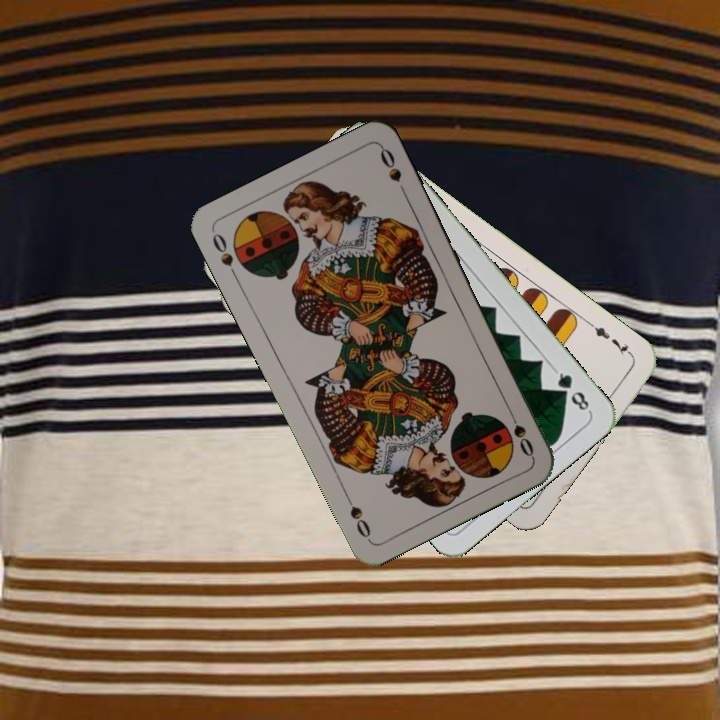E7: (585, 318, 636, 360)
G8: (550, 366, 593, 416)
SO: (503, 404, 537, 460), (208, 229, 241, 283)
